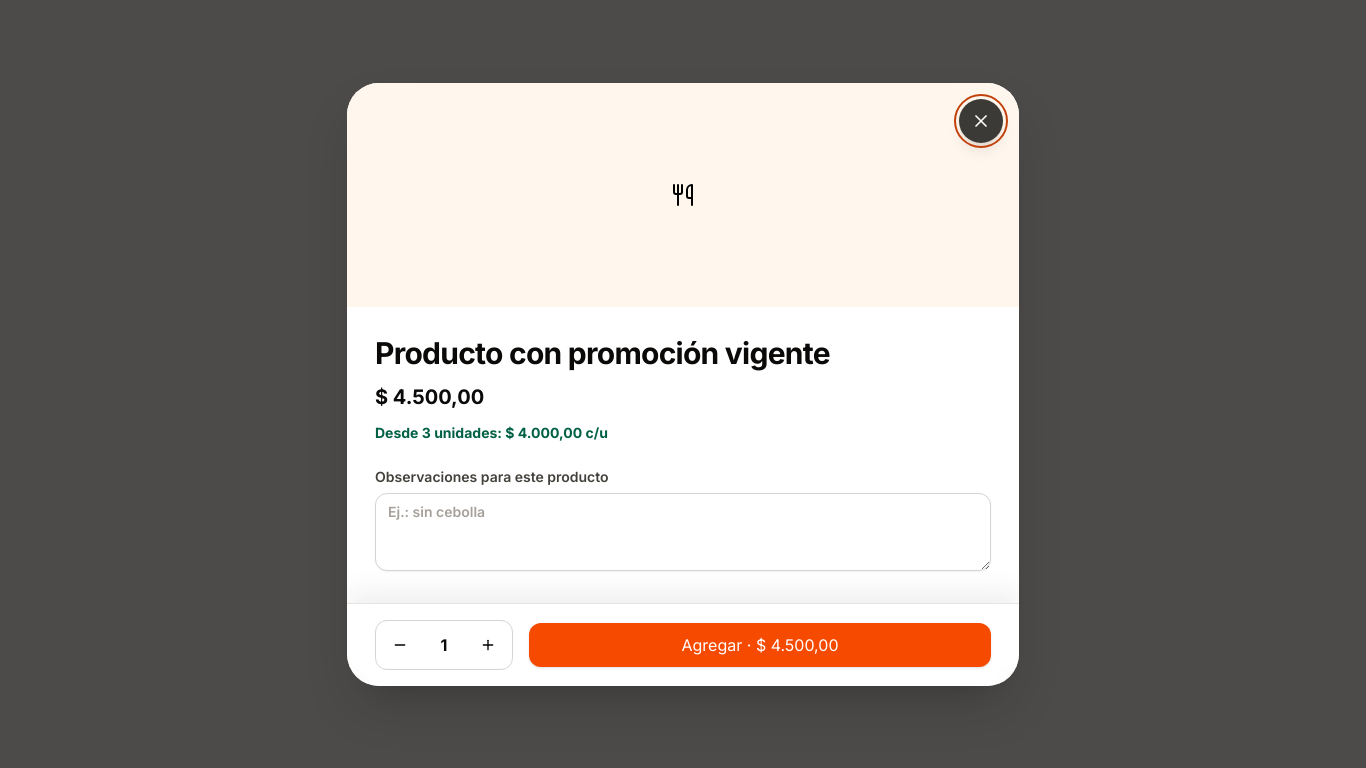
ProductDialog quantity promotions › shows a threshold and recalculates when crossing it in both directions
Expected: the text "Desde 3 unidades: $ 4.000,00 c/u" is shown, x1=375 y1=424 x2=608 y2=440
Click the button named "Sumar uno" at (488, 644), box x1=464 y1=620 x2=512 y2=668
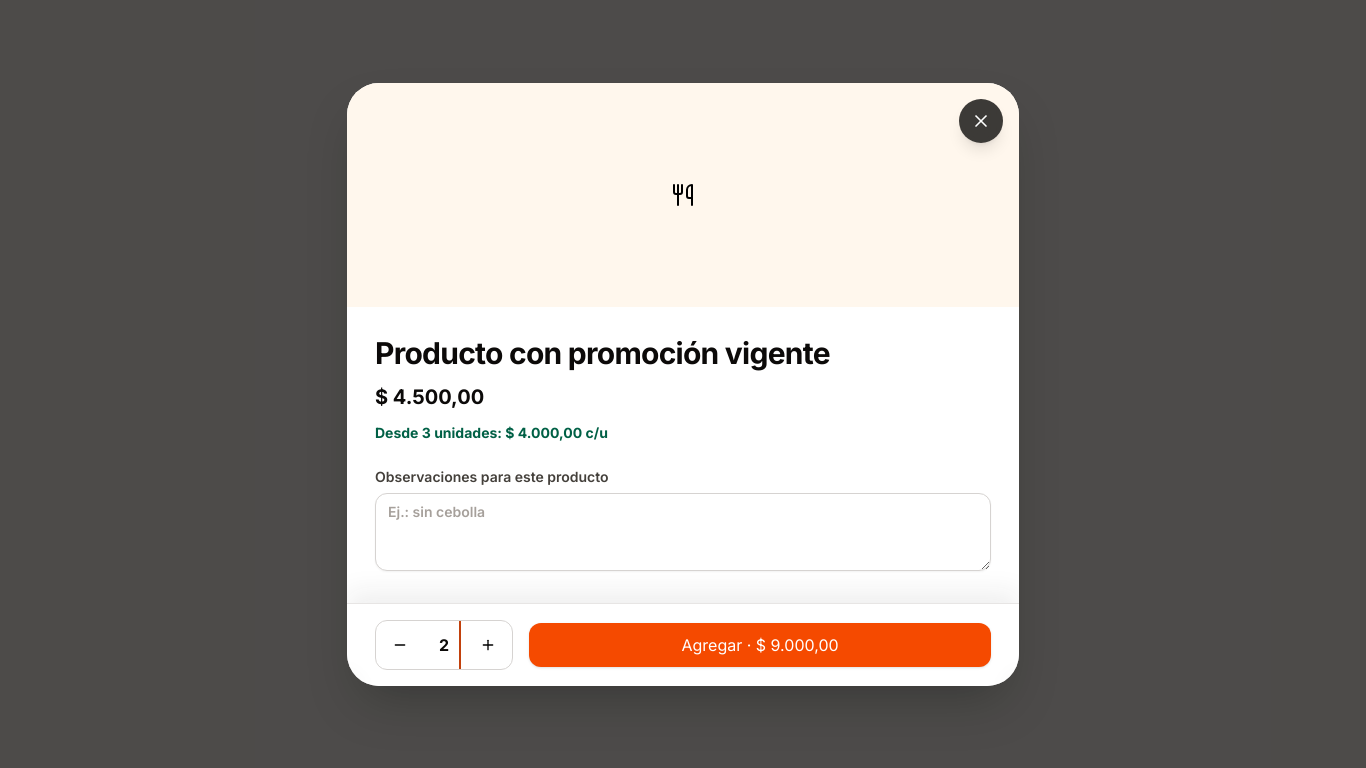
Expected: the button "Agregar · $ 9.000,00" is shown, x1=529 y1=622 x2=991 y2=666
Click the button named "Sumar uno" at (488, 644), box x1=464 y1=620 x2=512 y2=668
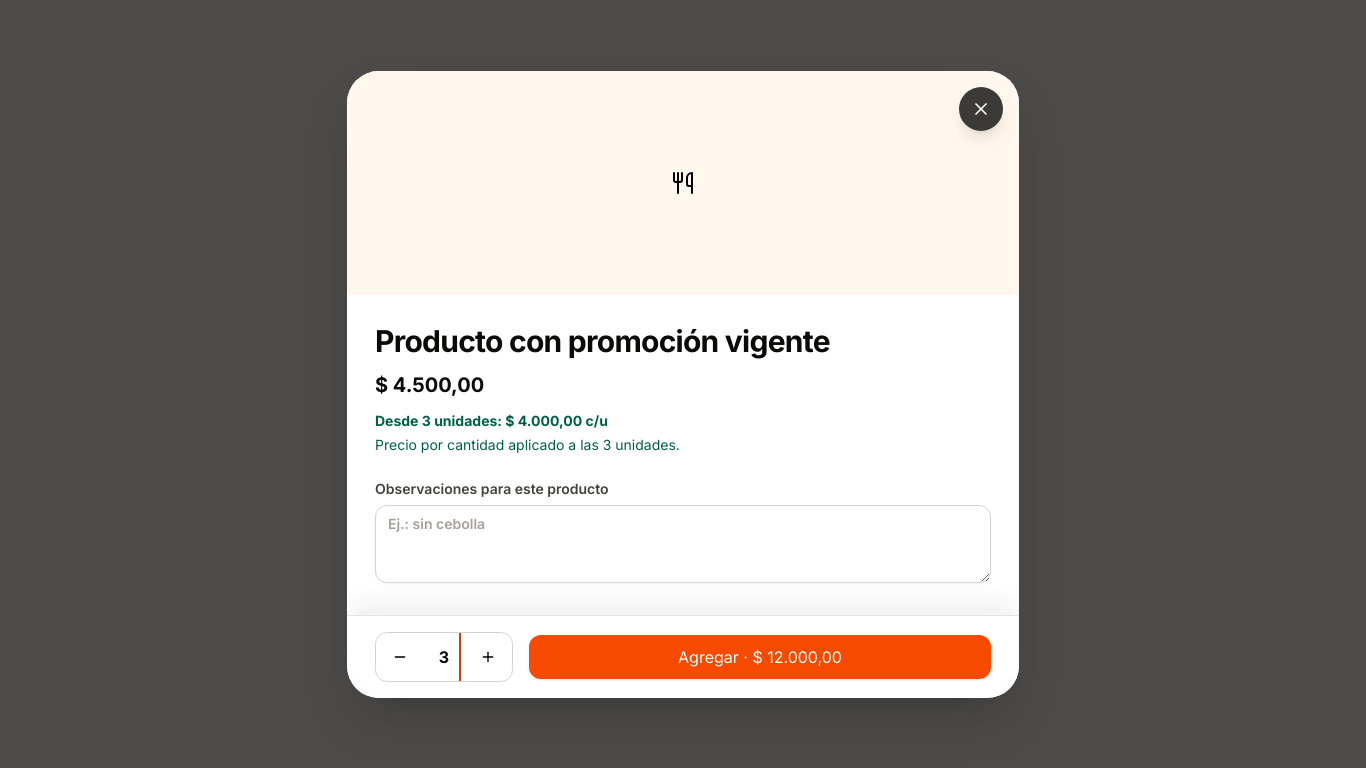
Expected: the button "Agregar · $ 12.000,00" is shown, x1=529 y1=634 x2=991 y2=678
Click the button named "Sumar uno" at (488, 656), box x1=464 y1=632 x2=512 y2=680
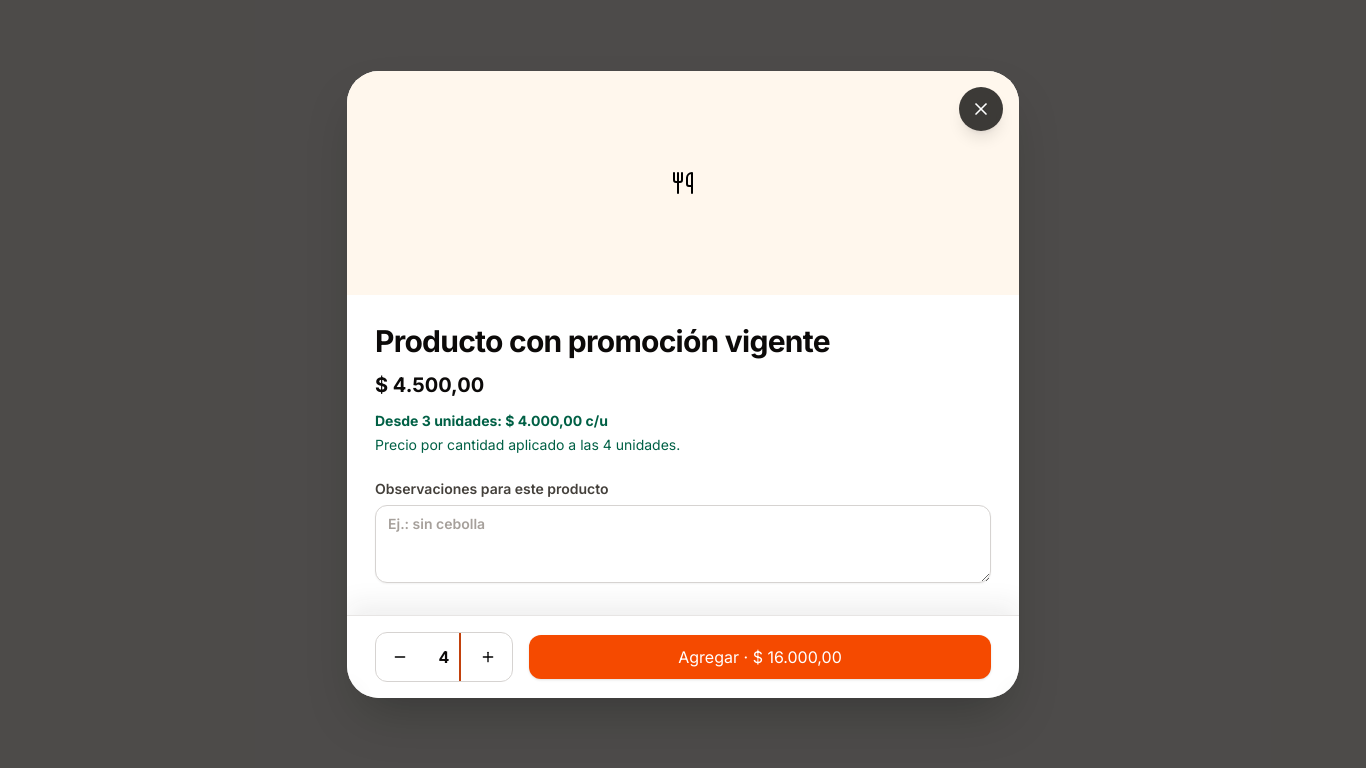
Expected: the button "Agregar · $ 16.000,00" is shown, x1=529 y1=634 x2=991 y2=678
Click the button named "Restar uno" at (400, 656), box x1=376 y1=632 x2=424 y2=680
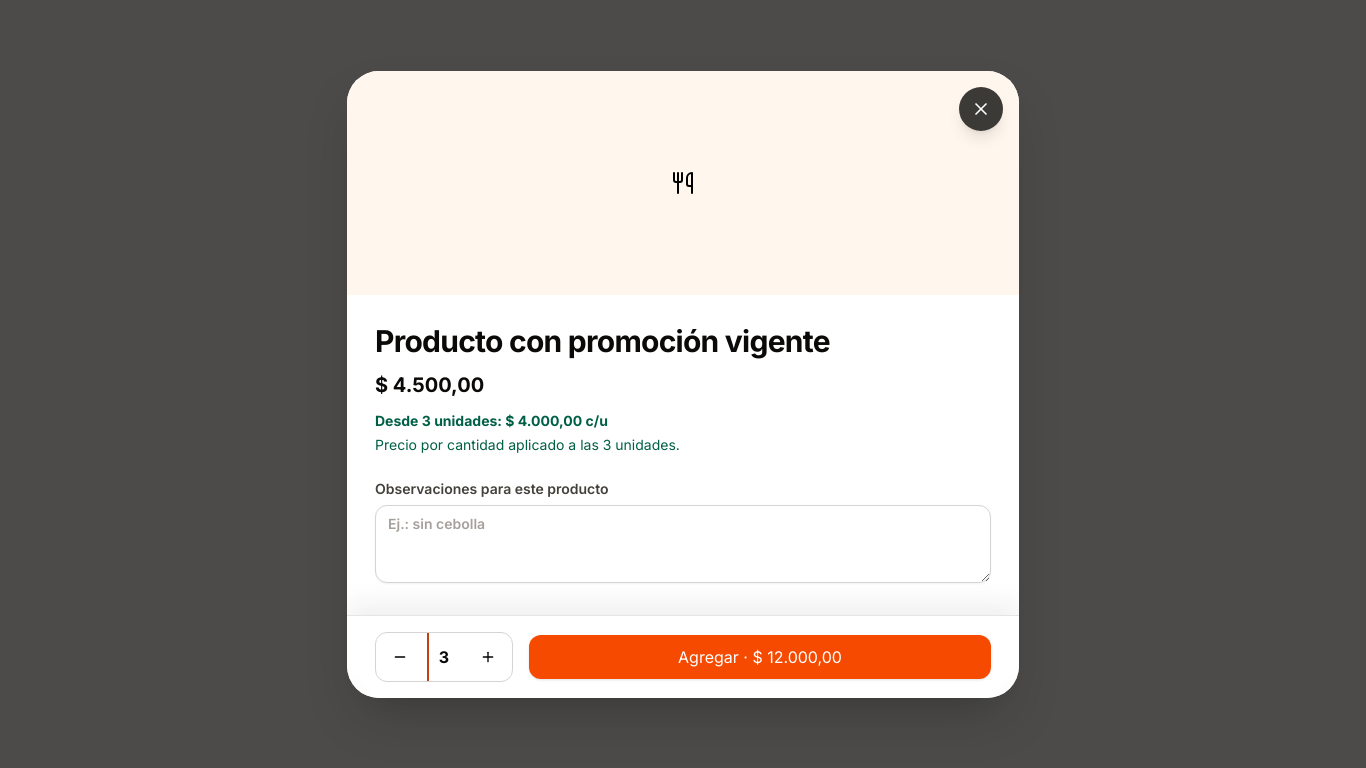
Click the button named "Restar uno" at (400, 656), box x1=376 y1=632 x2=424 y2=680
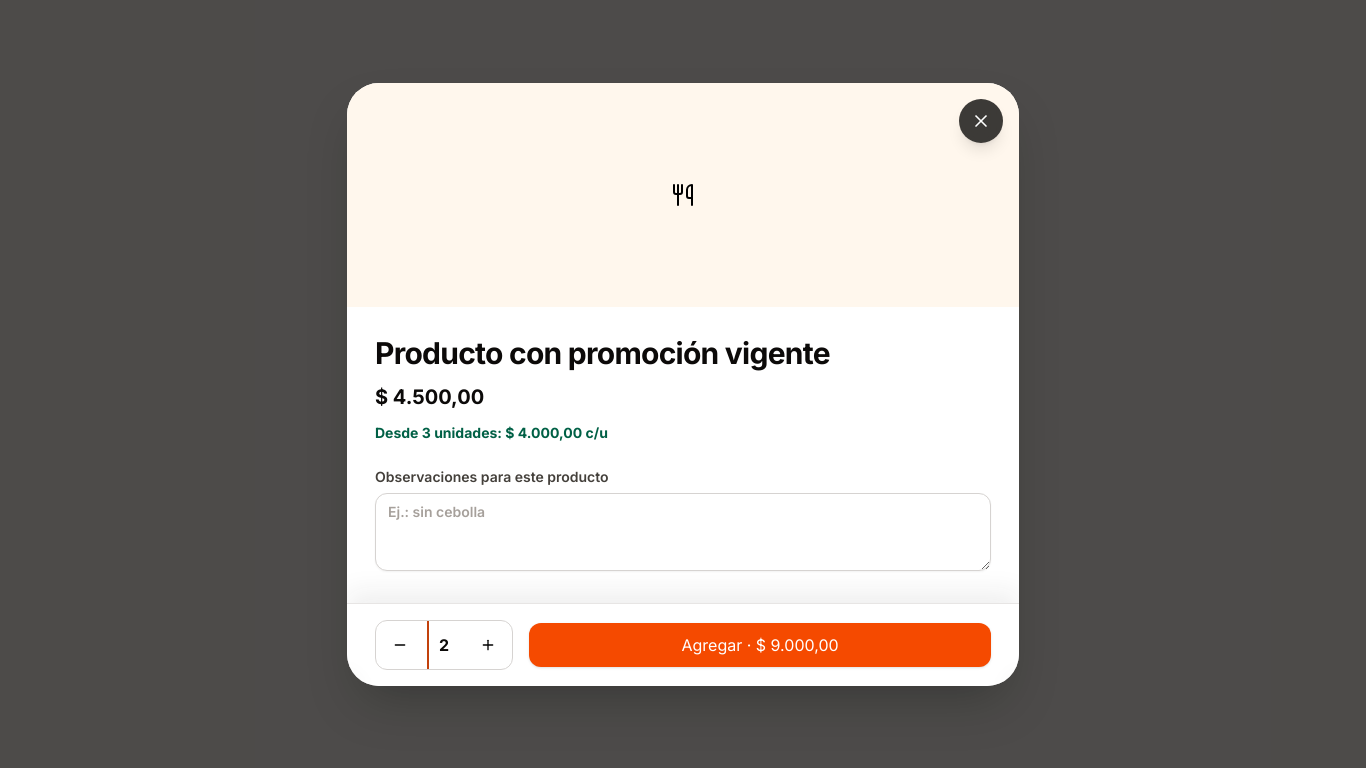
Expected: the button "Agregar · $ 9.000,00" is shown, x1=529 y1=622 x2=991 y2=666
Expected: the text "Precio por cantidad aplicado" is gone
